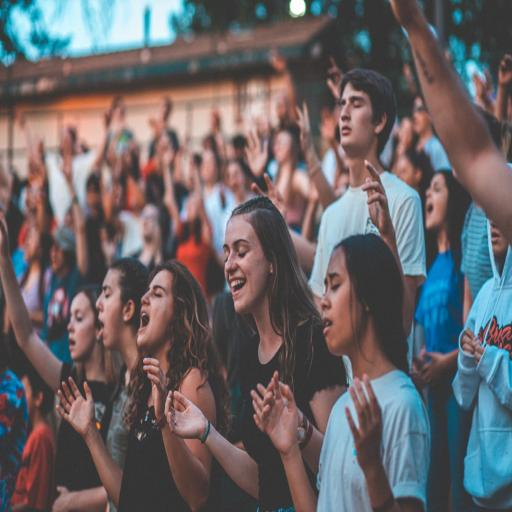face: (224, 215, 272, 314), (321, 249, 361, 356), (339, 83, 385, 157), (138, 270, 173, 354), (96, 269, 123, 349), (68, 293, 97, 362), (425, 173, 448, 231), (490, 220, 508, 258), (413, 98, 431, 135), (227, 162, 246, 196), (273, 131, 292, 164), (200, 150, 218, 184), (141, 204, 158, 240), (25, 226, 41, 262), (50, 243, 65, 274), (398, 118, 413, 147), (86, 186, 100, 215)
